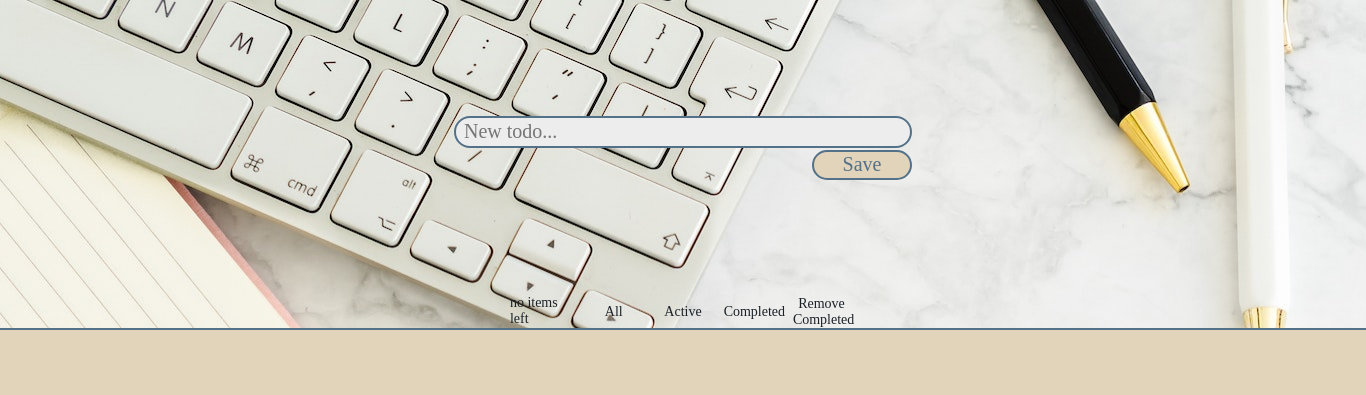
Test: to-do app › add and remove todo
Type "New Task" into the field with placeholder "New todo...". click: (683, 132)
box: [454,116,912,148]
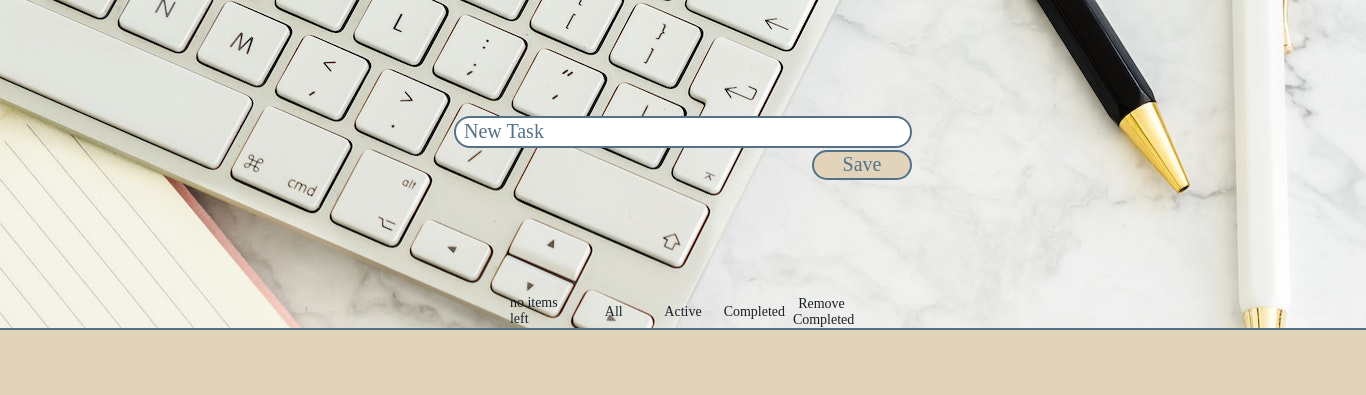
Press Enter in the field, box [454,116,912,148]
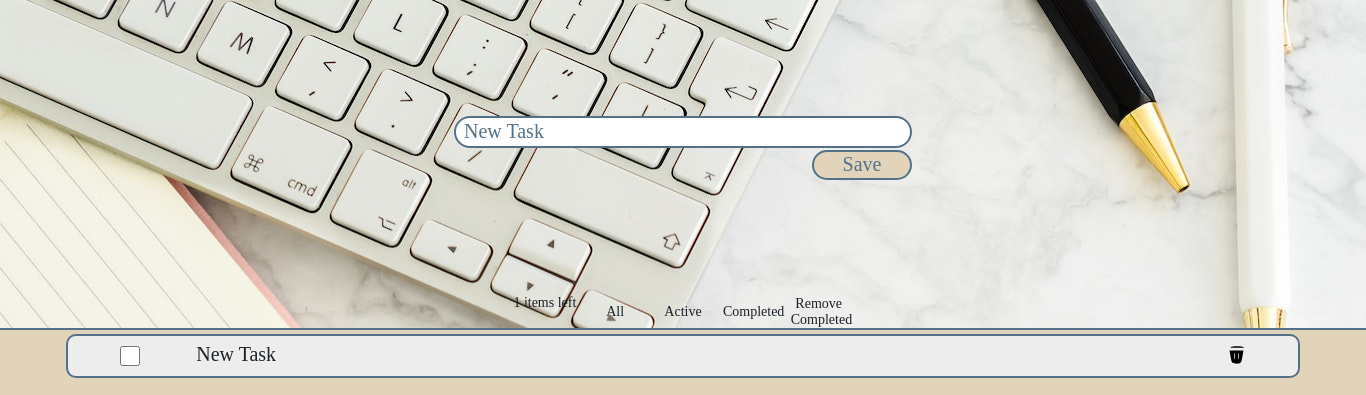
Clear the field. click: (683, 132)
box: [454,116,912,148]
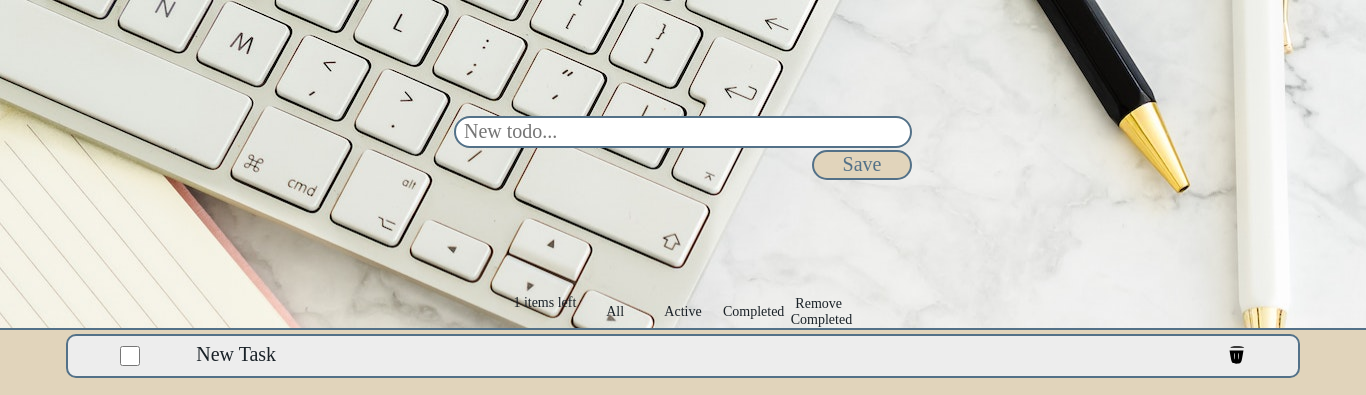
Result: the text "New Task" is shown at [66,334,1300,378]
Click the picture with class "gabarge-logo". click: (1237, 355)
box: [1226,344,1247,365]
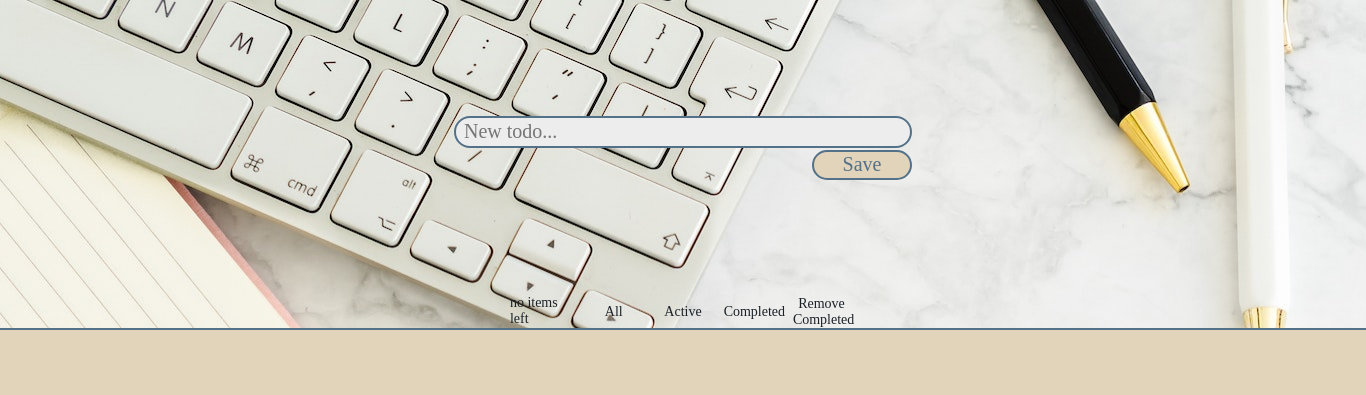
Result: the text "New Task" is gone
